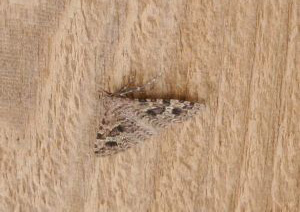Alucitidae: (89, 73, 203, 156)
moth: (91, 75, 205, 158)
